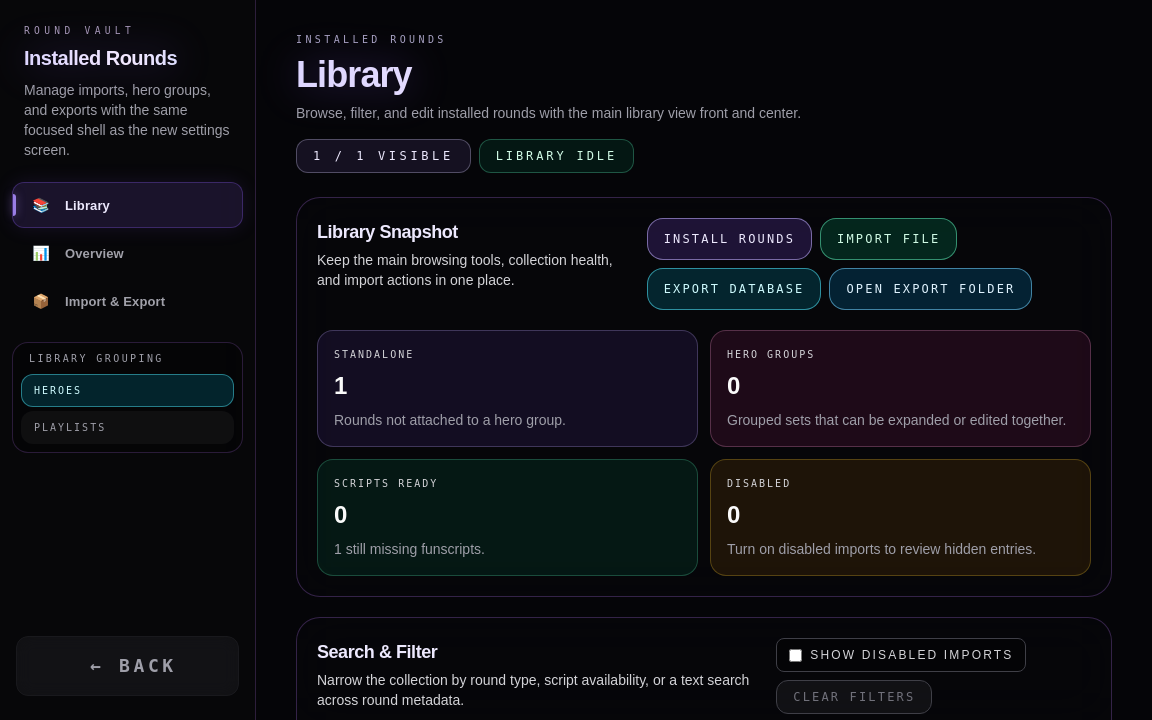
Test: InstalledRoundsPage hero grouping › requires explicit acknowledgement before advanced URI export
What coordinates should you click on to do the following:
click the button "Export Database"
I would click on:
 (734, 289)
Its box is [647,268,822,310].
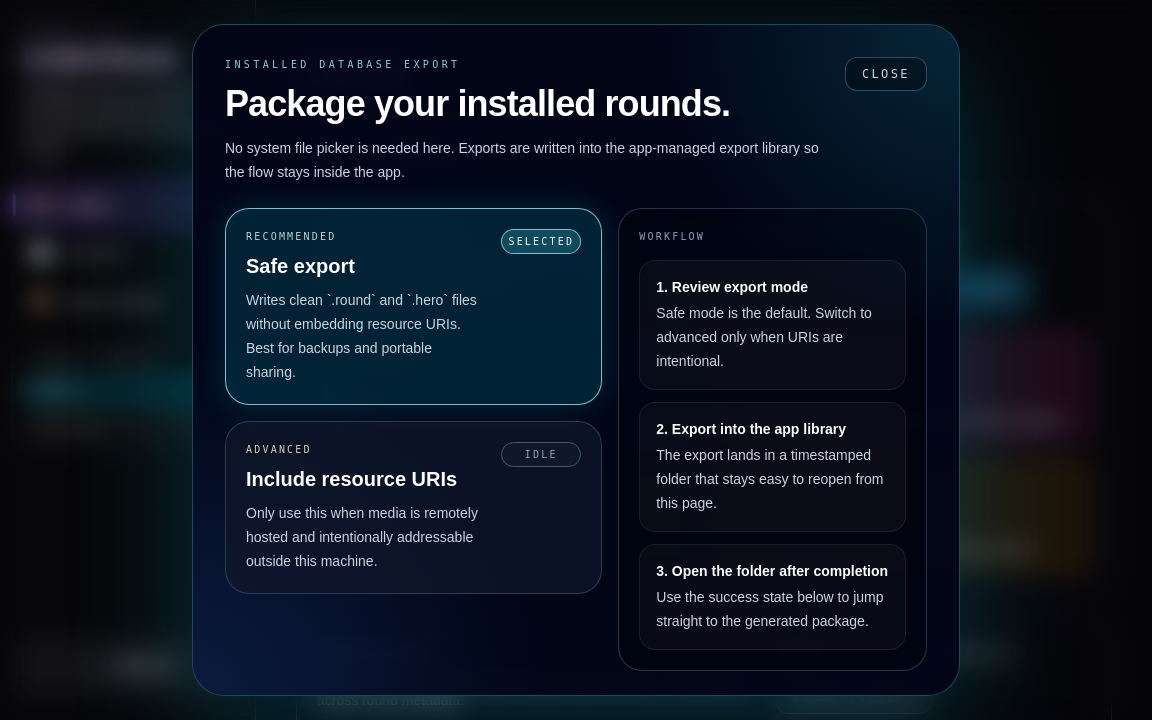
What coordinates should you click on to do the following:
click the button "Advanced Include resource URIs"
I would click on:
 (414, 508)
Its box is [225,421,602,594].
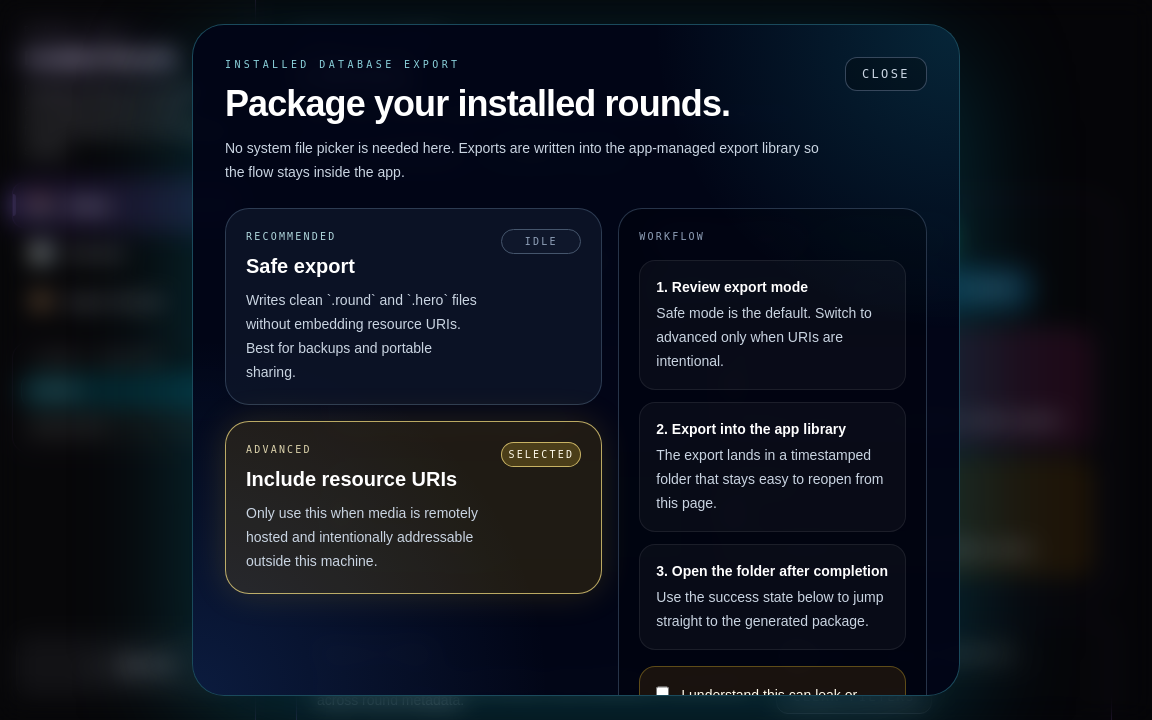
What coordinates should you click on to do the following:
click the checkbox labelled "I understand this can leak or break resource paths"
I would click on:
 (663, 693)
Its box is [656,685,669,701].
(page scrolled)
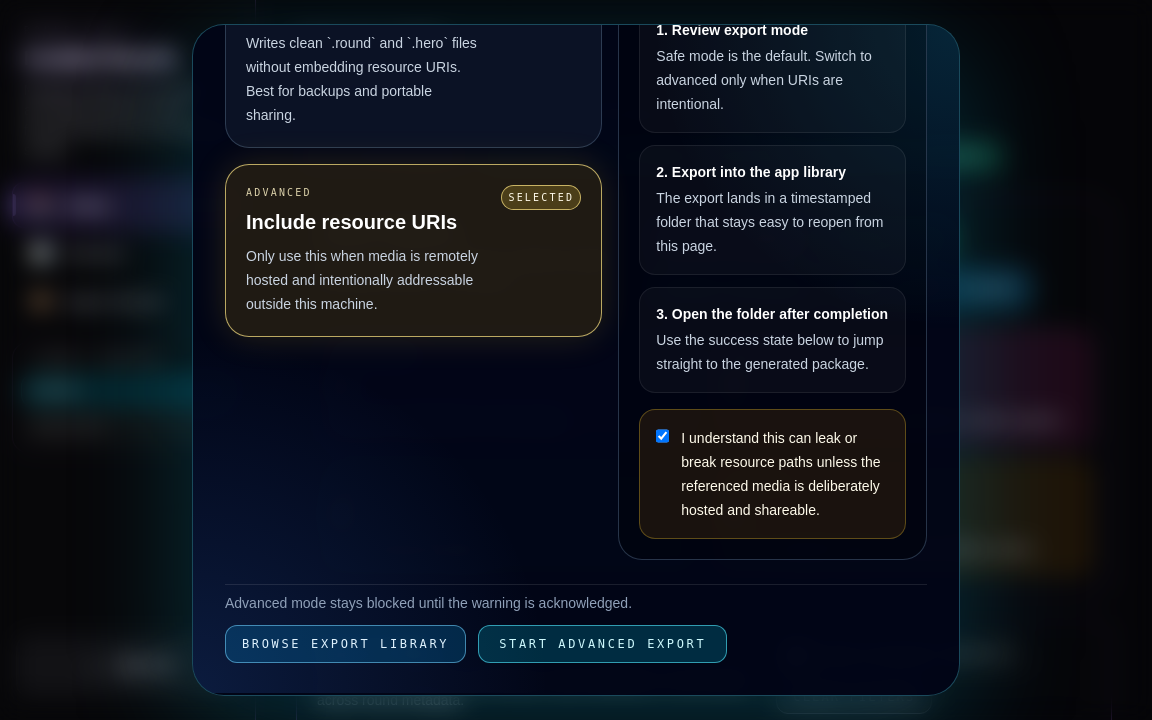
Expected: the button "Start Advanced Export" is enabled
What coordinates should you click on to do the following:
click the button "Start Advanced Export"
I would click on:
 (603, 644)
Its box is [478,625,727,663].
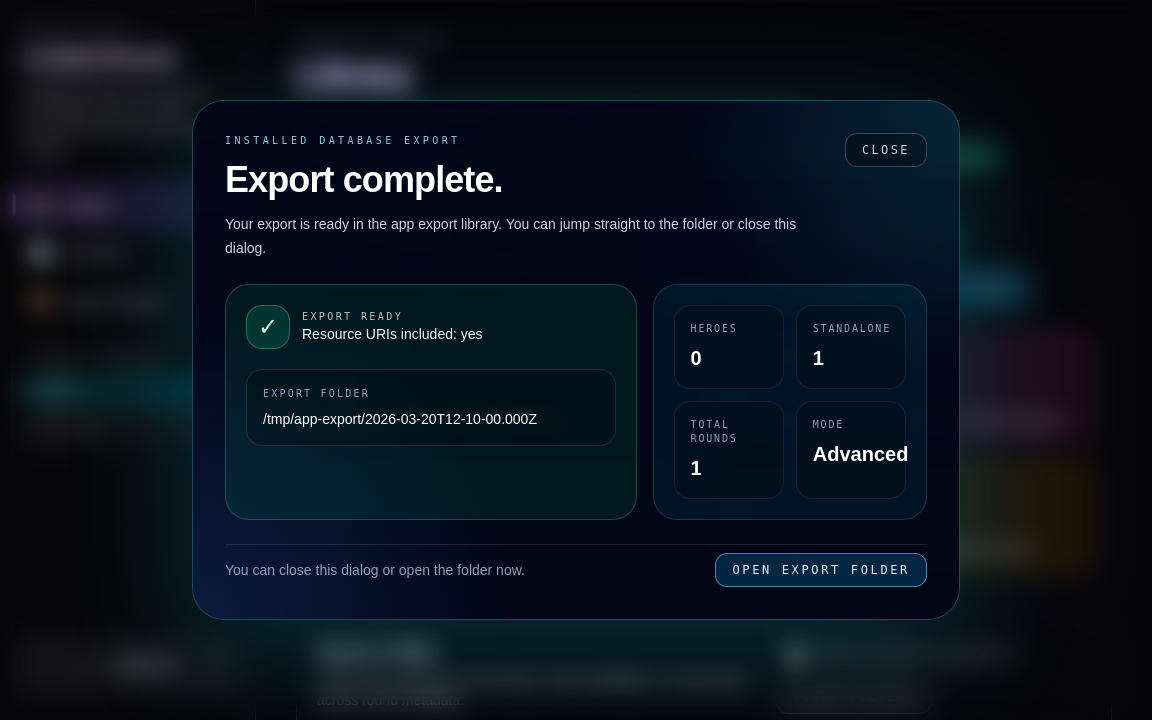
Expected: the text "Resource URIs included: yes" is shown, [302,324,482,344]
